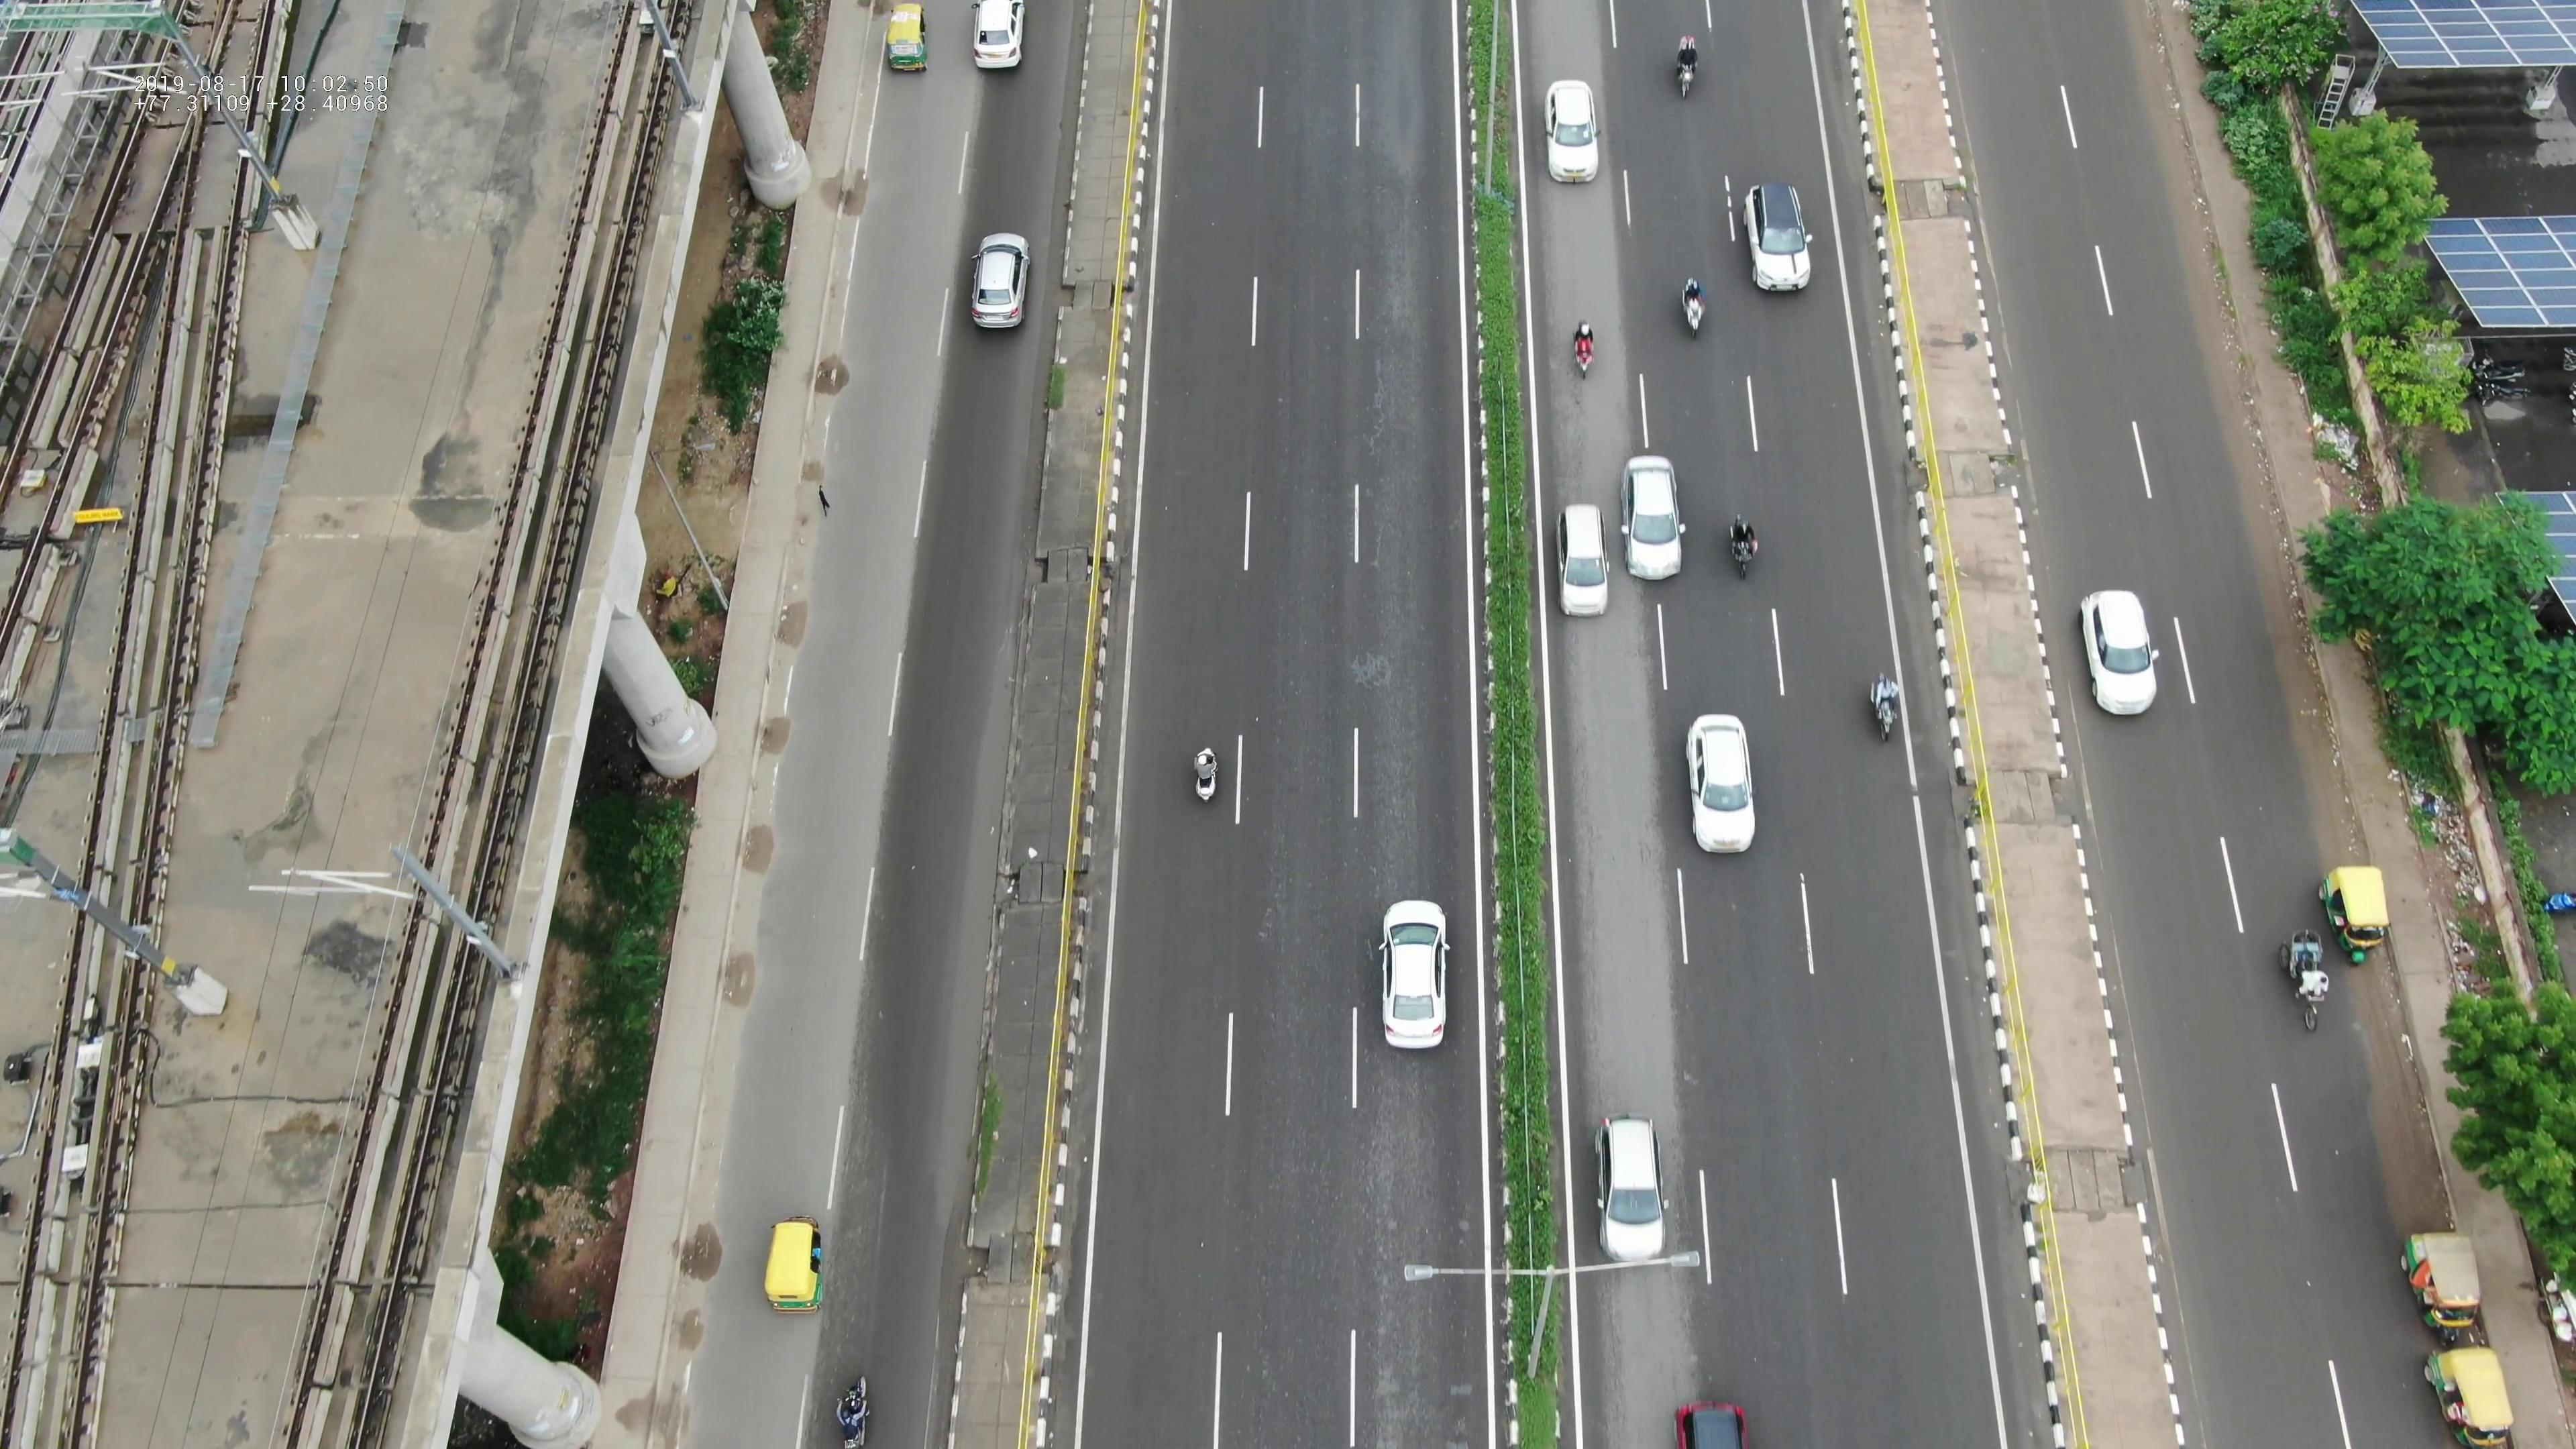Muddy_road: (2243, 533, 2328, 763), (2351, 991, 2433, 1210), (2185, 255, 2259, 432)
